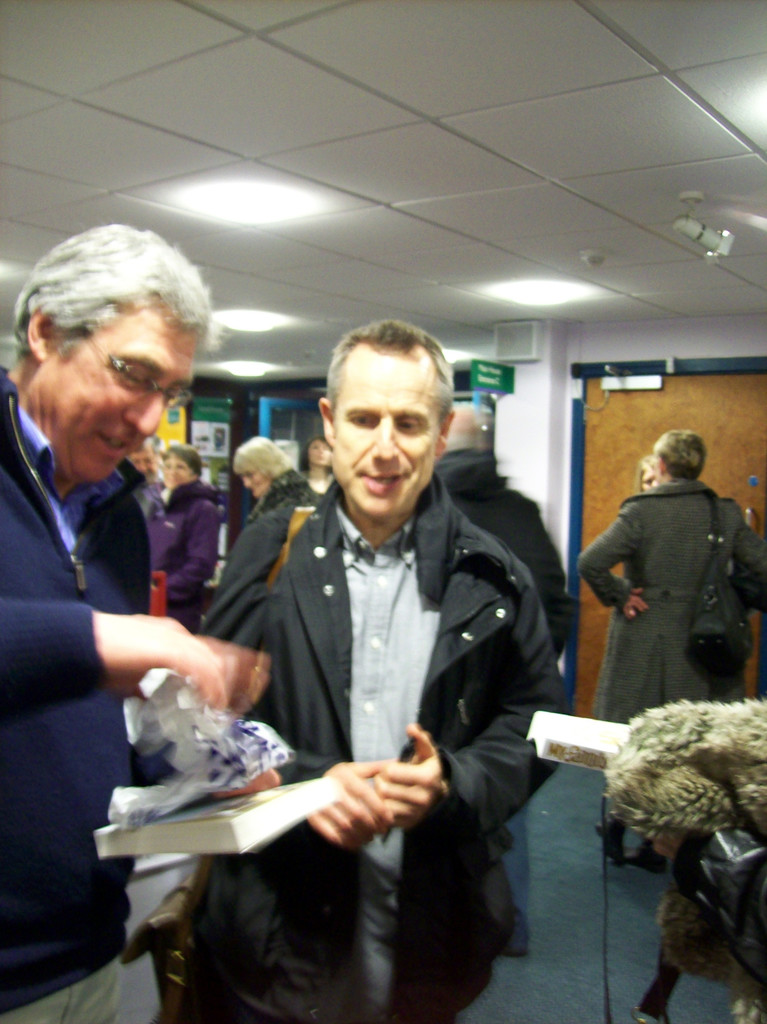Footwear: (592, 810, 628, 868), (630, 832, 670, 876)
